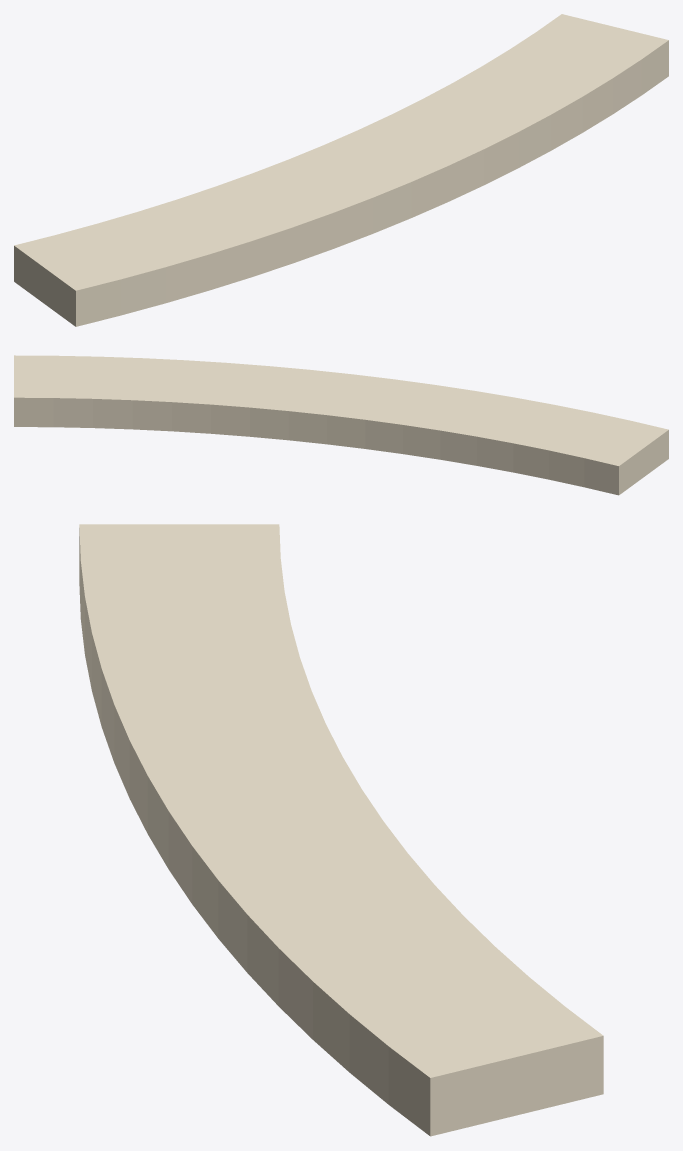
Rendered from ArcCoping_R4_A30.glb.
3 views of the same model, one above another, from view 1: azimuth 30°, elevation 25°; view 2: azimuth 150°, elevation 25°; view 3: azimuth 270°, elevation 25° (orthographic). The views are drawn at different scales.
Visible parts, largest first — view 1: PBK_Coping.012; view 2: PBK_Coping.012; view 3: PBK_Coping.012.
Part boxes in pixels (box(x1,y1,x2,y2)): PBK_Coping.012: box(14, 14, 668, 326); PBK_Coping.012: box(14, 355, 668, 495); PBK_Coping.012: box(79, 524, 603, 1136).
Bounding box in the file's own units: 2.03 × 0.1 × 0.8124.
